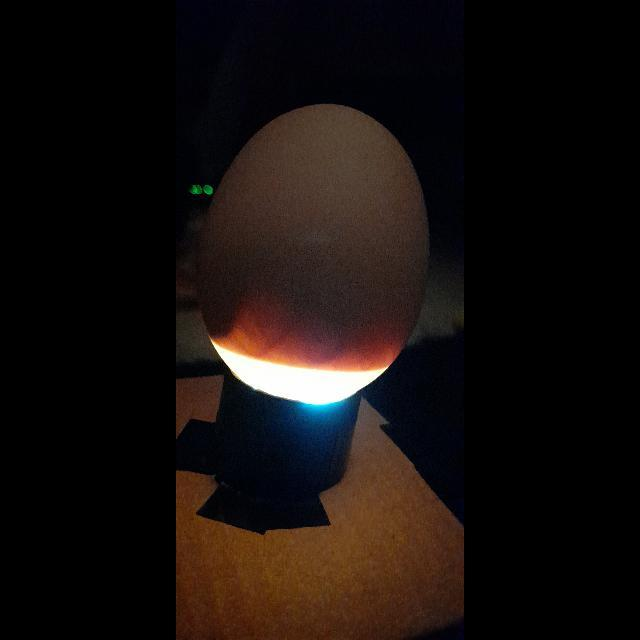Fertile: (196, 101, 434, 406)
